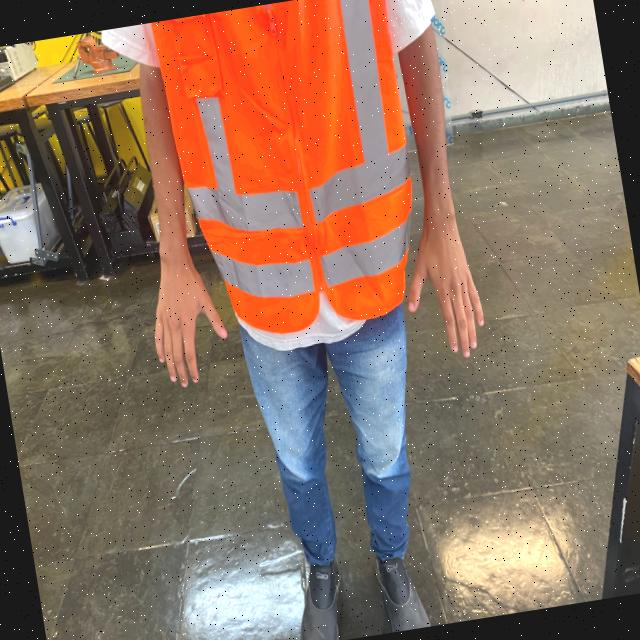BOTA: (364, 545, 441, 631), (291, 541, 343, 640)
COLETE: (145, 0, 400, 342)
SEM LUVA: (398, 210, 491, 364), (152, 266, 236, 393)
